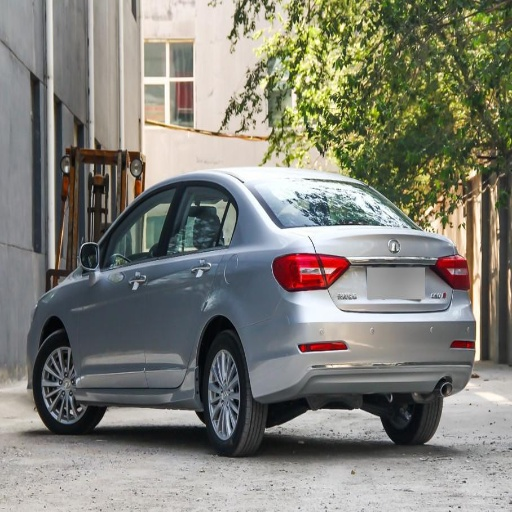back_bumper: (243, 290, 474, 403)
back_glass: (253, 171, 408, 227)
back_left_door: (142, 178, 238, 386)
tailgate: (309, 228, 440, 314)
trunk: (373, 242, 455, 355)
